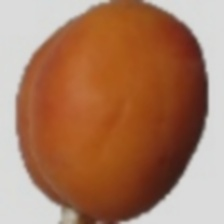apricot: (33, 40, 199, 185)
